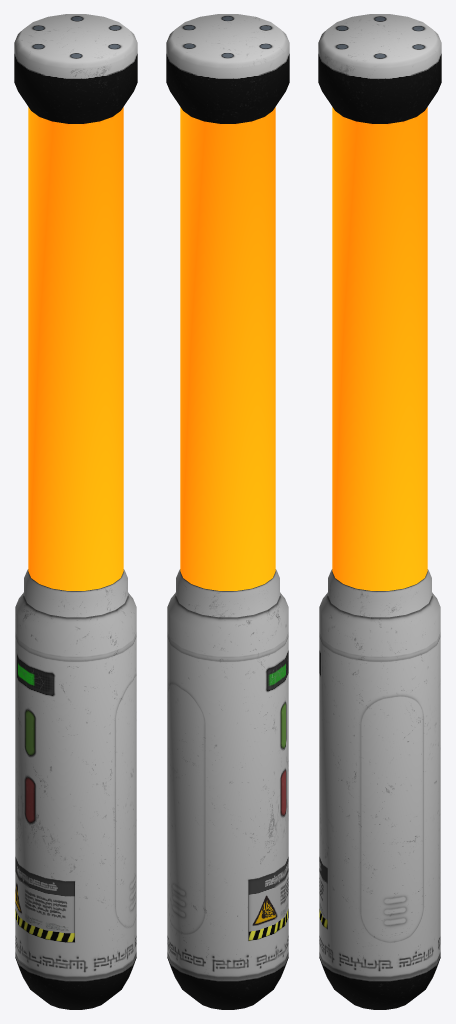
File: HandLight.glb
3 renders of one model, left to right at view 1: azimuth 30°, elevation 25°; view 2: azimuth 150°, elevation 25°; view 3: azimuth 330°, elevation 25°, orthographic.
Parts seen in each view (by area): view 1: HandLight; view 2: HandLight; view 3: HandLight.
Boxes of the visible parts, bbox=[...] form: HandLight: bbox=[14, 14, 137, 1009]; HandLight: bbox=[166, 14, 289, 1009]; HandLight: bbox=[318, 14, 441, 1009].
Size of the model in its own units: 0.0408 by 0.3572 by 0.0414.
1 material, 1 textured.
